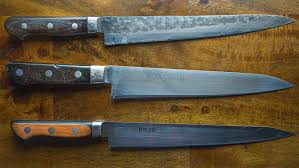knife: (3, 58, 297, 111), (2, 7, 294, 49), (7, 117, 296, 153)
